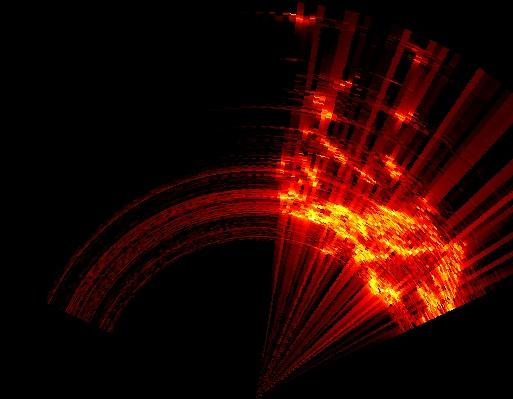shipwreck: (279, 164, 448, 262), (417, 246, 468, 322), (368, 272, 404, 304), (382, 157, 398, 180), (325, 118, 333, 124)
